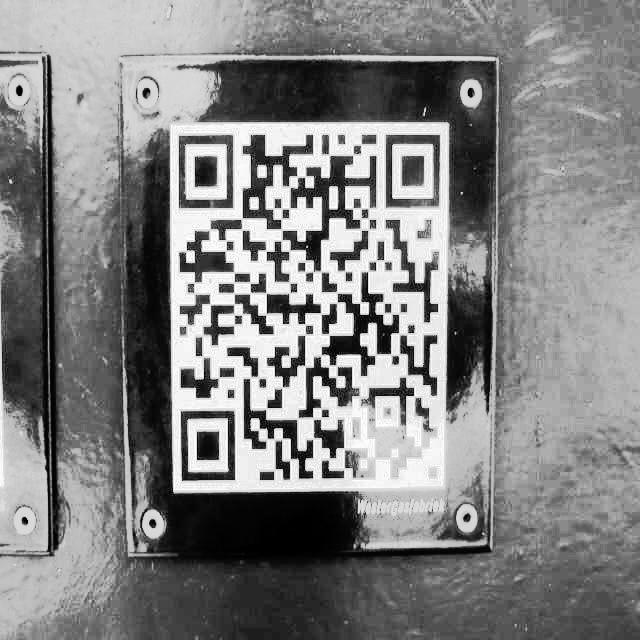qr_code: (178, 135, 439, 480)
